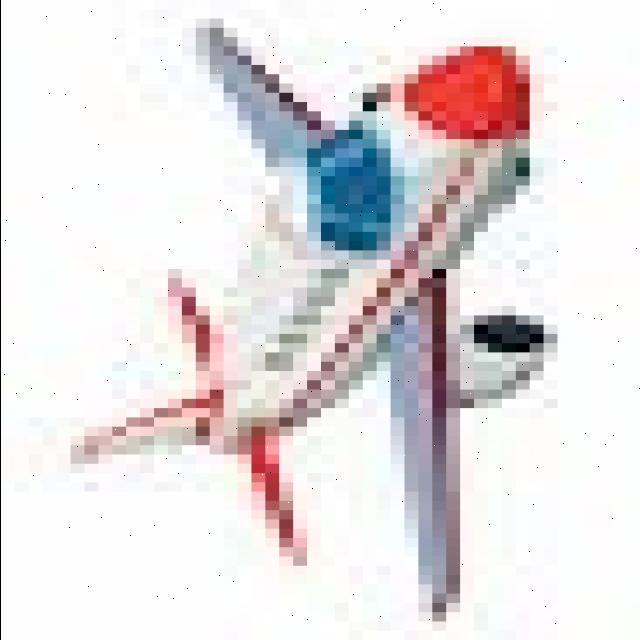jet: (60, 0, 640, 640)
